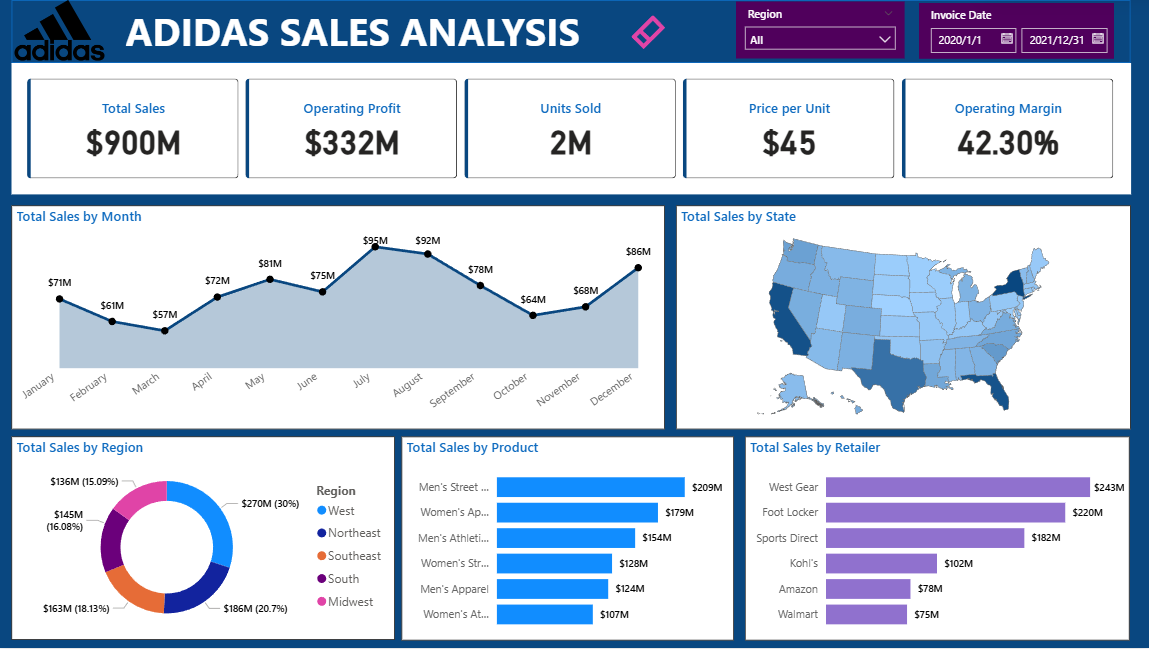

The dashboard page shown, as its layout file describes it:
{"tool":"powerbi","page":{"name":"Adidas sales analysis","canvas":[1280,720],"ordinal":0},"visuals":[{"type":"shape","box":[15.1,0,1243.5,69.9],"z":0},{"type":"textbox","box":[136.5,0,523.7,67.3],"z":1000},{"type":"cardVisual","fields":{"Data":["Sum(Data Sales Adidas.Total Sales)","Sum(Data Sales Adidas.Operating Profit)","Sum(Data Sales Adidas.Units Sold)","Avg(Data Sales Adidas.Price per Unit)","Avg(Data Sales Adidas.Operating Margin)"]},"box":[15,69.2,1243.8,145.9],"z":2000},{"type":"areaChart","title":"Total Sales by Month","fields":{"Category":["Data Sales Adidas.Invoice Date.Variation.Date Hierarchy.Month"],"Y":["Sum(Data Sales Adidas.Total Sales)"]},"box":[15,228.2,725.7,248.8],"z":3000},{"type":"shapeMap","title":"Total Sales by State","fields":{"Category":["Data Sales Adidas.State"],"Value":["Sum(Data Sales Adidas.Total Sales)"]},"box":[753.8,228.2,505,248.8],"z":4000},{"type":"donutChart","fields":{"Category":["Data Sales Adidas.Region"],"Y":["Sum(Data Sales Adidas.Total Sales)"]},"box":[14.6,485.8,426,226],"z":5000},{"type":"barChart","title":"Total Sales by Product","fields":{"Category":["Data Sales Adidas.Product"],"Y":["Sum(Data Sales Adidas.Total Sales)"]},"box":[448.5,485.8,369.2,226.7],"z":6000},{"type":"barChart","title":"Total Sales by Retailer","fields":{"Y":["Sum(Data Sales Adidas.Total Sales)"],"Category":["Data Sales Adidas.Retailer"]},"box":[830.7,485.8,427.5,226.7],"z":7000},{"type":"slicer","fields":{"Values":["Data Sales Adidas.Region"]},"box":[819.3,1.9,187,63.6],"z":8000},{"type":"slicer","fields":{"Values":["Data Sales Adidas.Invoice Date"]},"box":[1023.1,3.7,217,61.7],"z":9000},{"type":"image","box":[15,0,106.6,67.3],"z":9001},{"type":"actionButton","box":[700,13.3,53.3,45],"z":9002}]}

Visuals, with their boxes in screenshot pixels (x1, y1, x2, y2), scaled from the page's 1280x720 canvas onto the 1149x649 screenshot:
shape: region(14, 0, 1130, 63)
textbox: region(123, 0, 593, 61)
cardVisual - Sum(Data Sales Adidas.Total Sales) x Sum(Data Sales Adidas.Operating Profit): region(13, 62, 1130, 194)
"Total Sales by Month" areaChart: region(13, 206, 665, 430)
"Total Sales by State" shapeMap: region(677, 206, 1130, 430)
donutChart - Data Sales Adidas.Region x Sum(Data Sales Adidas.Total Sales): region(13, 438, 396, 642)
"Total Sales by Product" barChart: region(403, 438, 734, 642)
"Total Sales by Retailer" barChart: region(746, 438, 1129, 642)
slicer - Data Sales Adidas.Region: region(735, 2, 903, 59)
slicer - Data Sales Adidas.Invoice Date: region(918, 3, 1113, 59)
image: region(13, 0, 109, 61)
actionButton: region(628, 12, 676, 53)
